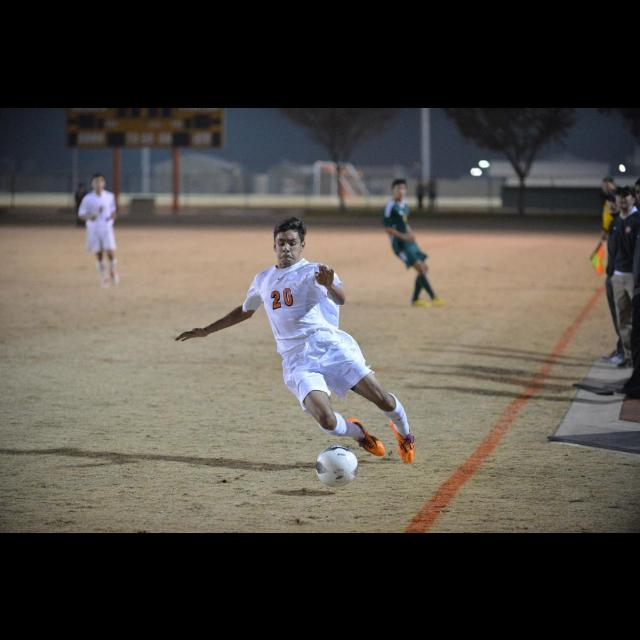Football: (312, 442, 360, 483)
